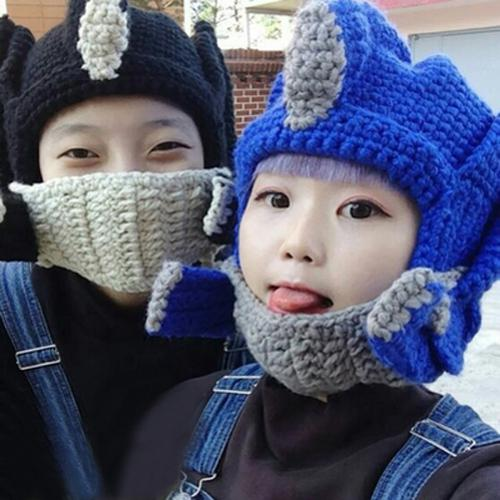OK: (38, 101, 206, 297)
WRONG: (238, 153, 422, 364)
